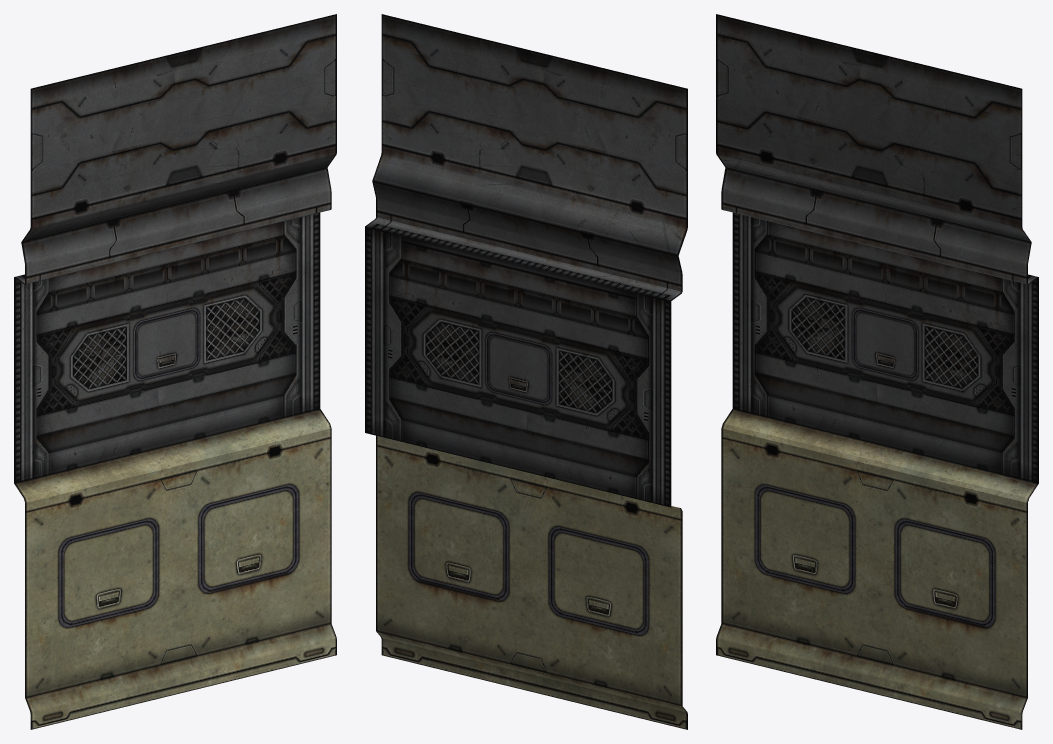
Rendered from living_area_flat01_storage_short.dae.
3 renders of one model, left to right at view 1: azimuth 30°, elevation 25°; view 2: azimuth 150°, elevation 25°; view 3: azimuth 330°, elevation 25°, orthographic.
Visible parts, largest first — view 1: pPlane7; view 2: pPlane7; view 3: pPlane7.
Boxes of the visible parts, x1,y1,x2,y2 form: pPlane7: (14,14,336,729); pPlane7: (365,14,687,729); pPlane7: (716,14,1038,729).
Bounding box in the file's own units: 2 × 4 × 0.1859.
